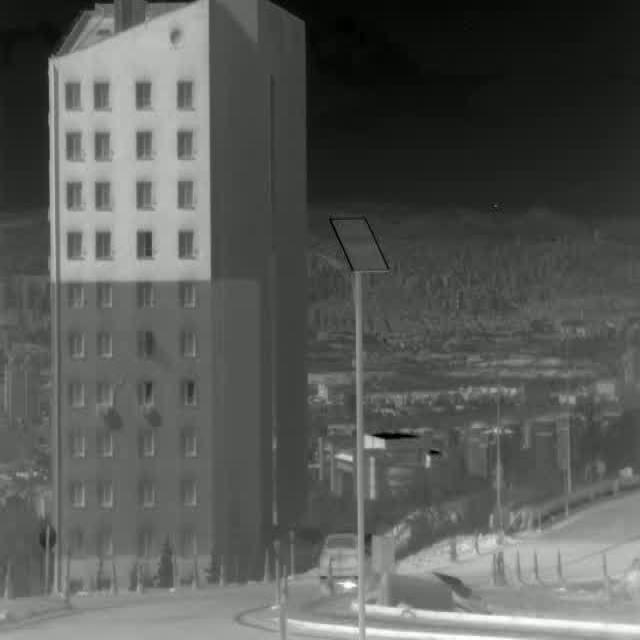Car: (318, 530, 374, 593)
